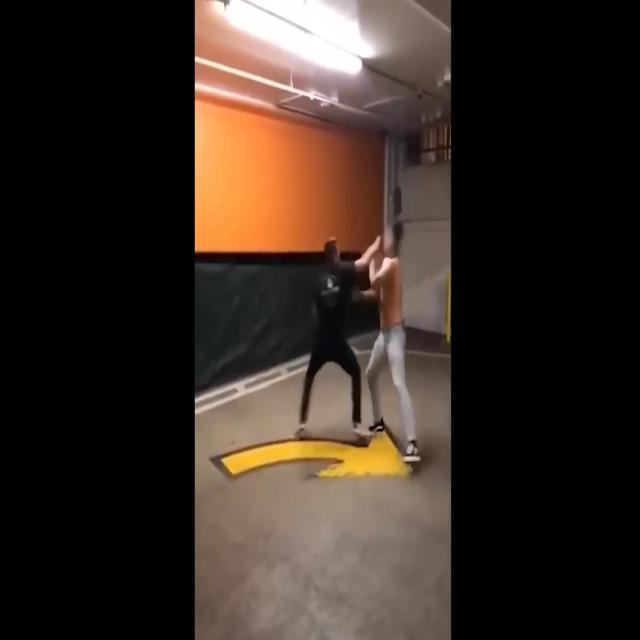violence: (294, 217, 420, 465)
